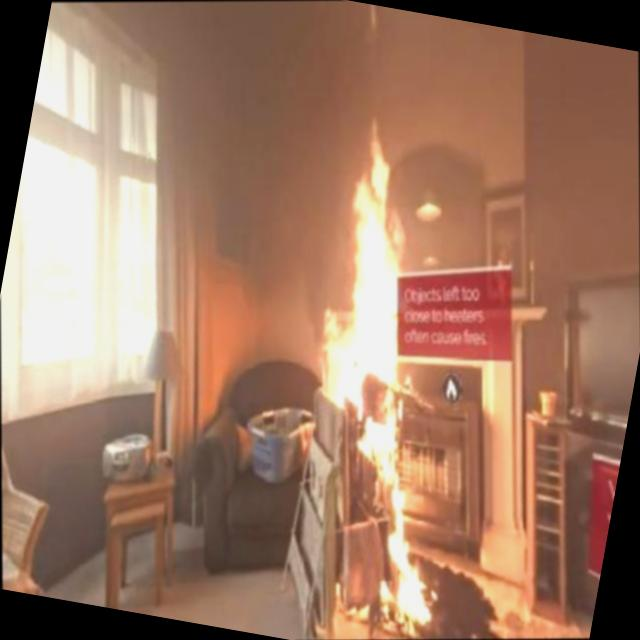fire: (267, 100, 448, 402)
